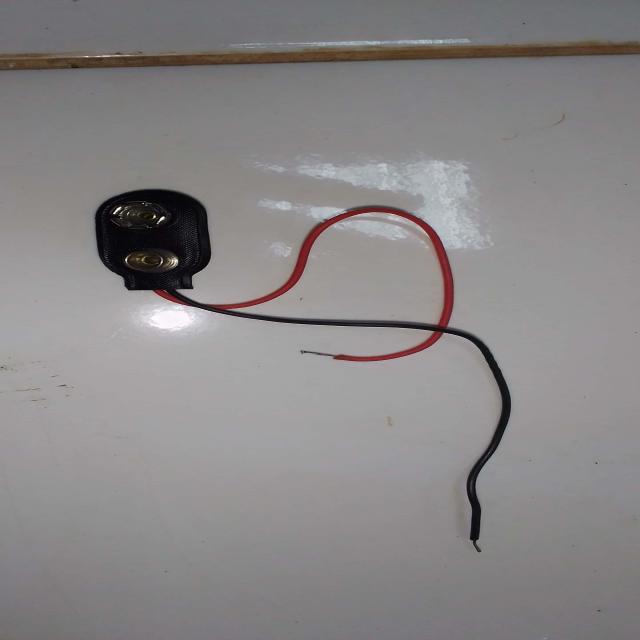Battery Holder: (71, 179, 468, 360)
